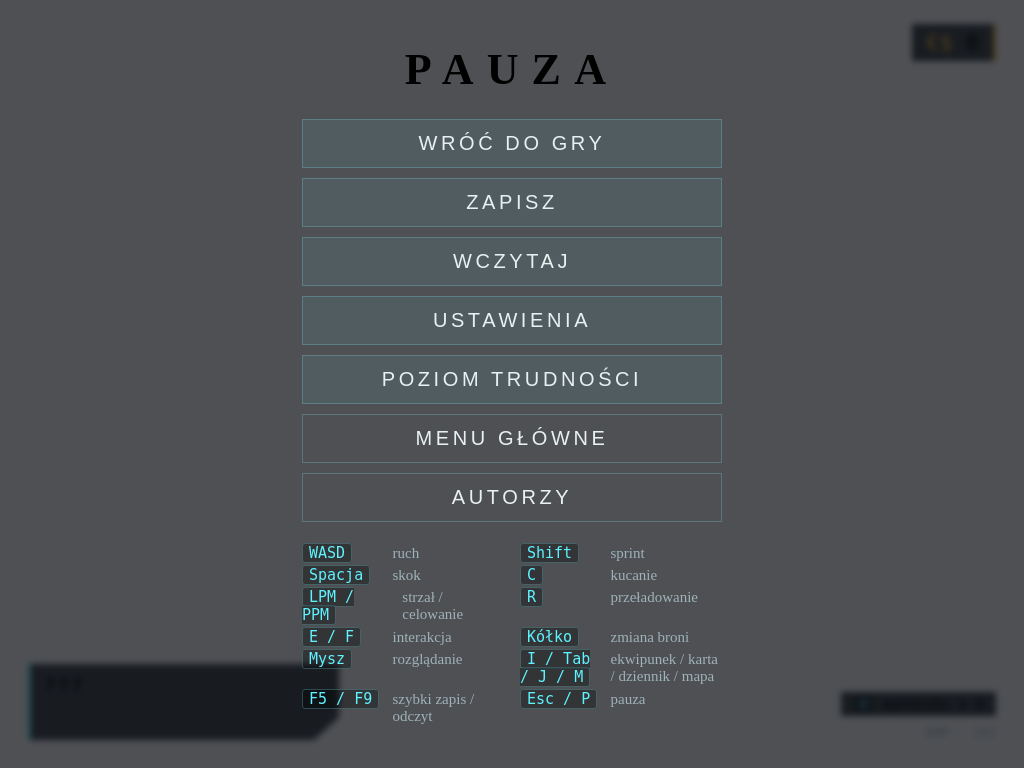
Scenario: language of the menus › shows the pause menu and its slots in Polish when chosen
Expected: the heading "Pauza" is shown, [405,44,619,94]
Click the button "Wczytaj" at (512, 261), box [302,236,722,286]
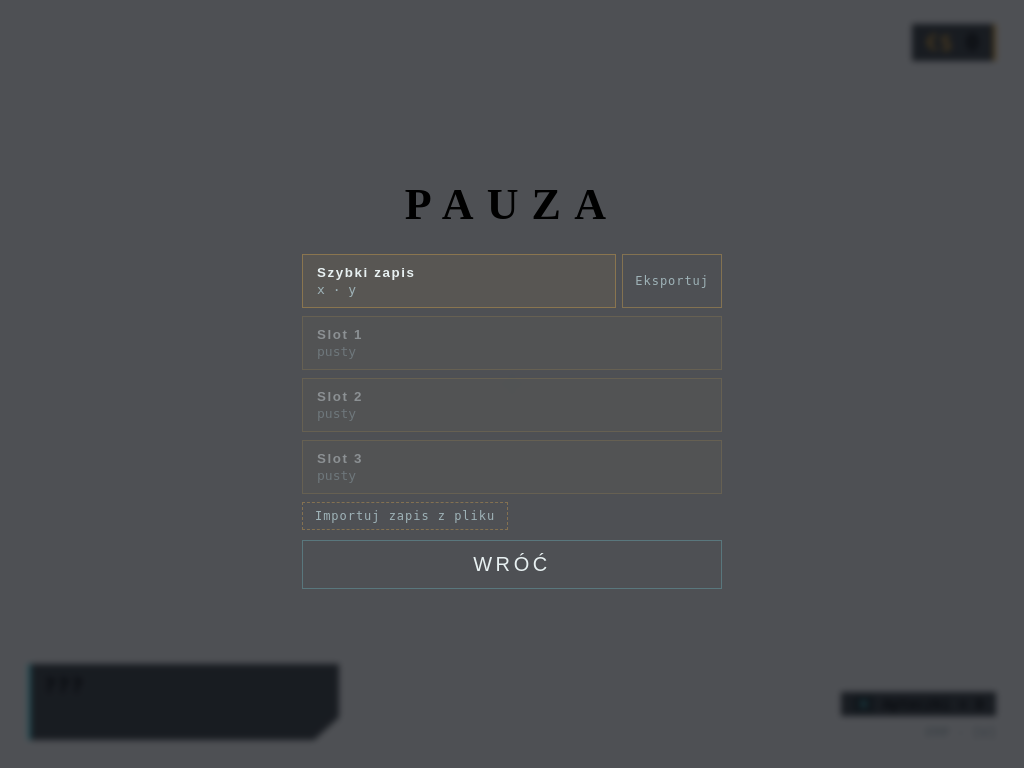
Expected: the text "Szybki zapis" is shown, [317,265,416,280]
Now the 1st text "pusty" is shown, box [317,344,356,359]
